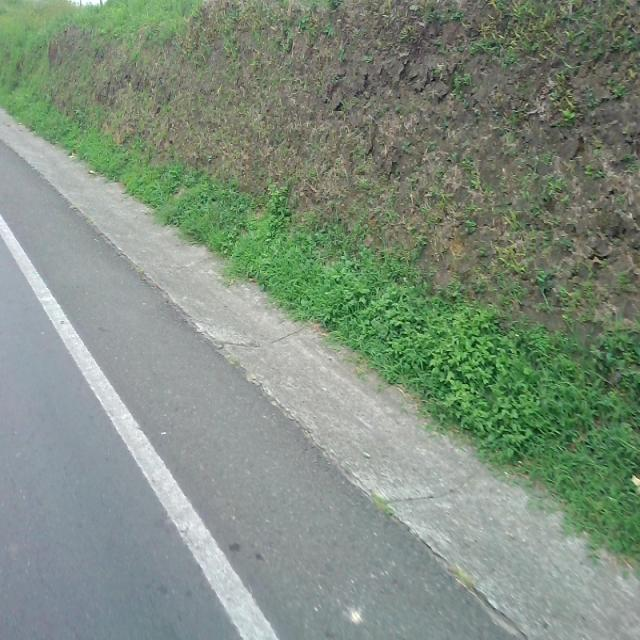DITCH: (2, 7, 638, 636), (1, 105, 638, 638)
